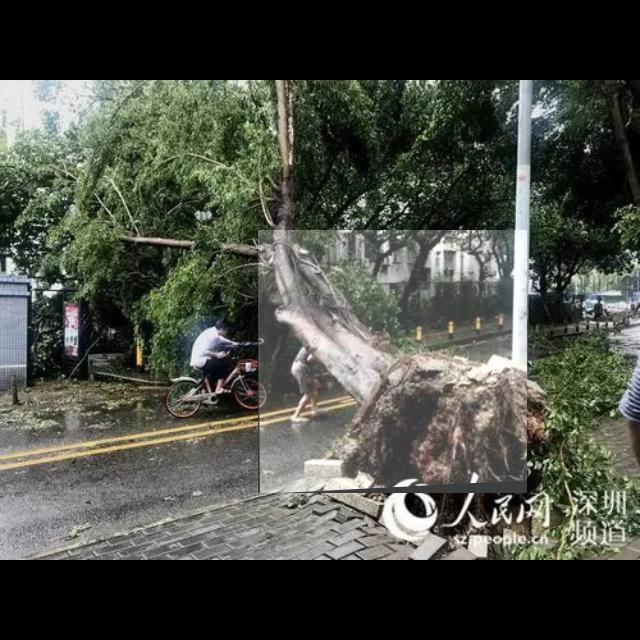fallen_tree: (258, 230, 528, 494)
